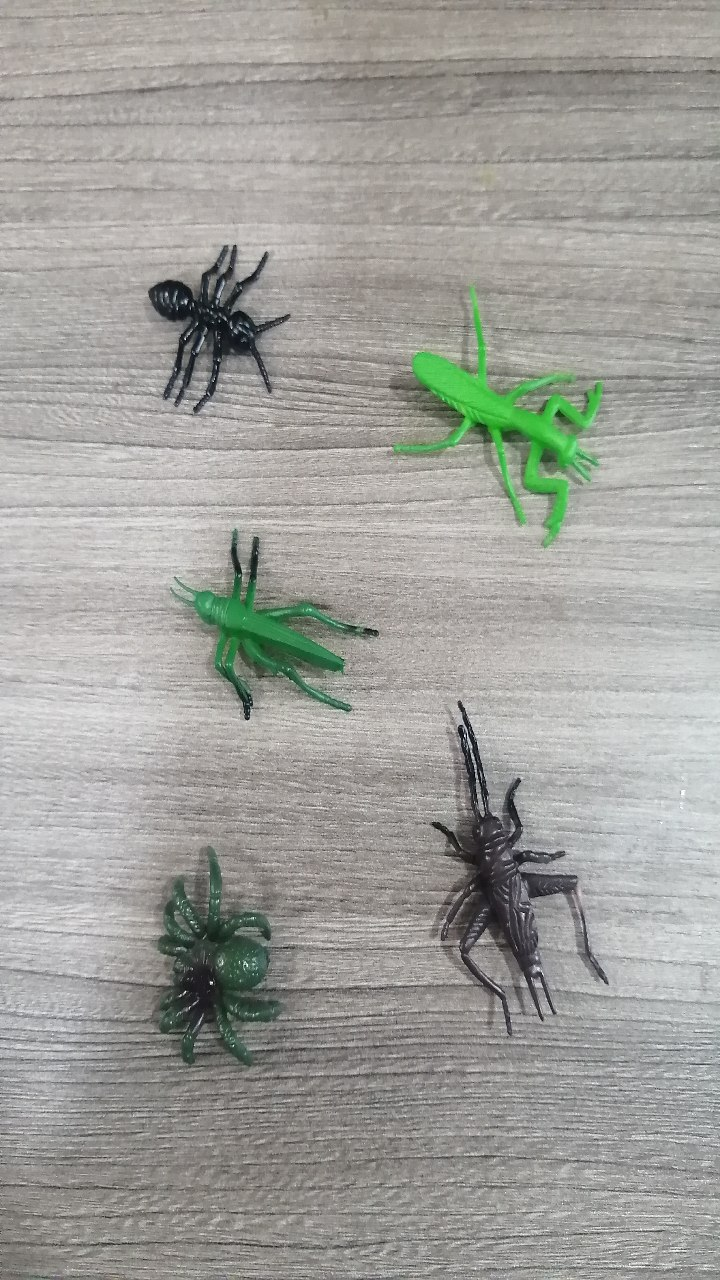intruso: (401, 691, 624, 1042), (374, 260, 612, 546), (128, 499, 418, 731), (118, 823, 317, 1092), (111, 208, 314, 435)
